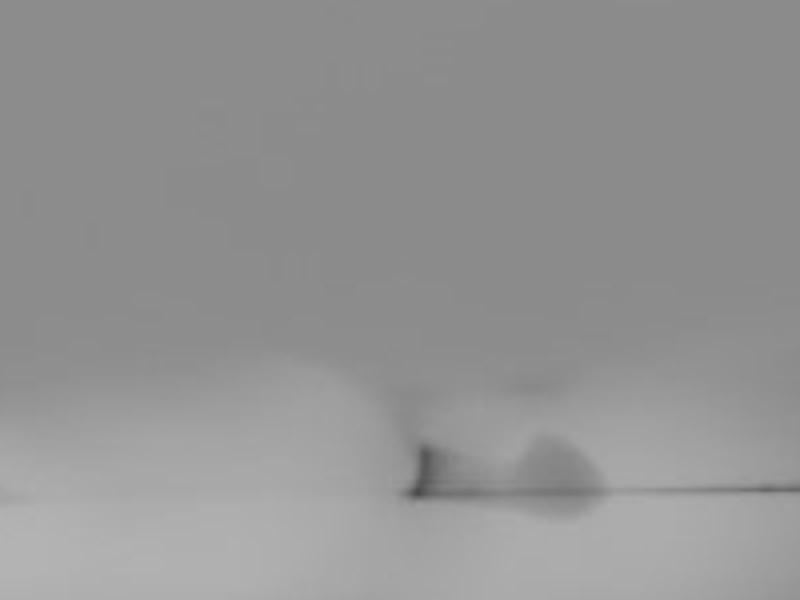defect: (509, 434, 600, 525)
